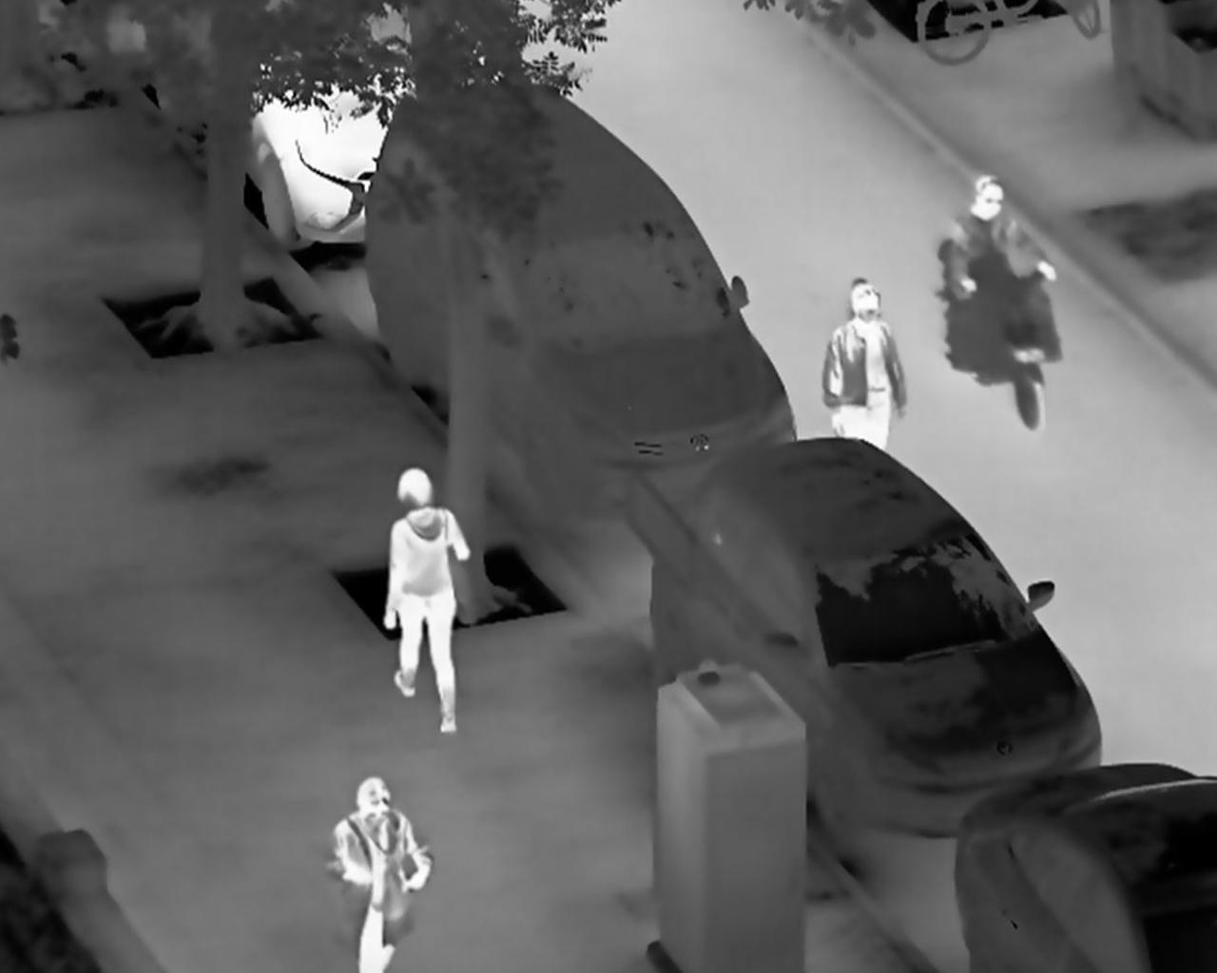person: (381, 467, 473, 738), (328, 775, 433, 973), (818, 280, 910, 453), (947, 170, 1060, 309)
